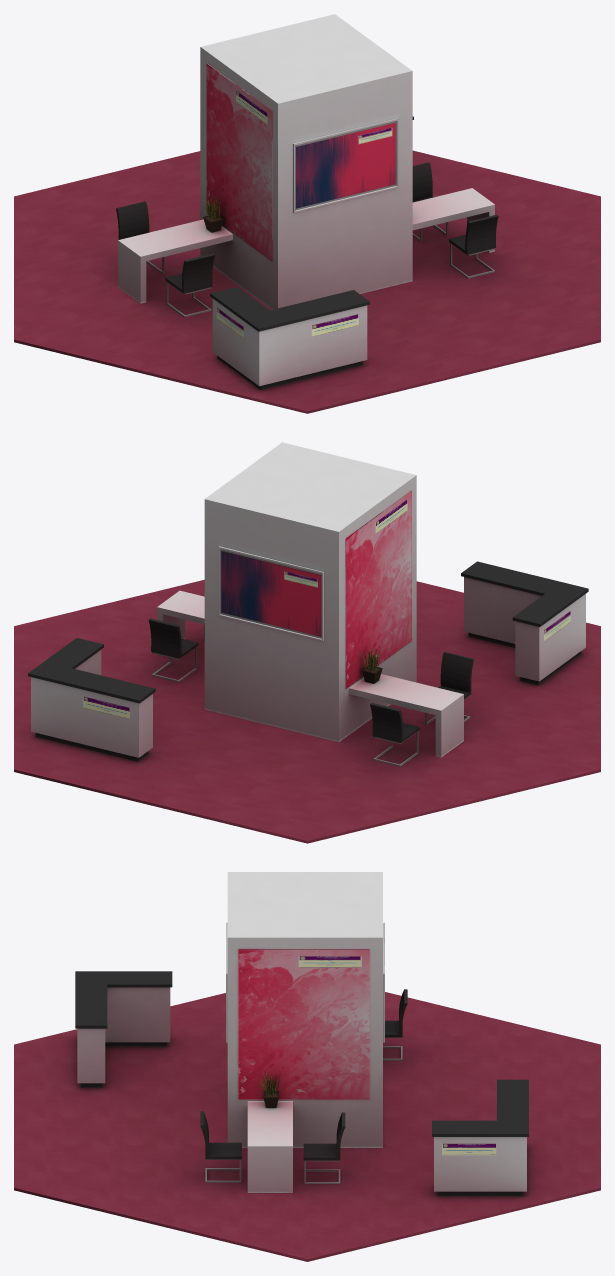
Rendered from booth.gltf.
The picture shows the model from 3 angles, top to bottom: view 1: azimuth 30°, elevation 25°; view 2: azimuth 150°, elevation 25°; view 3: azimuth 270°, elevation 25°; orthographic projection.
Visible parts, largest first — view 1: booth_1, booth_1_banners_1, booth_1_logo_3; view 2: booth_1, booth_1_banners_1, booth_1_logo_5; view 3: booth_1, booth_1_banners_1, booth_1_logo_1, booth_1_logo_2.
Boxes of the visible parts, x1,y1,x2,y2 form: booth_1: (14,14,600,413); booth_1_banners_1: (206,64,395,386); booth_1_logo_3: (311,314,358,336); booth_1: (14,442,600,843); booth_1_banners_1: (31,491,585,757); booth_1_logo_5: (83,696,130,719); booth_1: (14,872,600,1261); booth_1_banners_1: (238,949,526,1191); booth_1_logo_1: (298,956,361,967); booth_1_logo_2: (442,1143,496,1155).
Bounding box in the file's own units: 10.48 × 3.63 × 9.07.
Materials: 3 (3 with a texture image).
